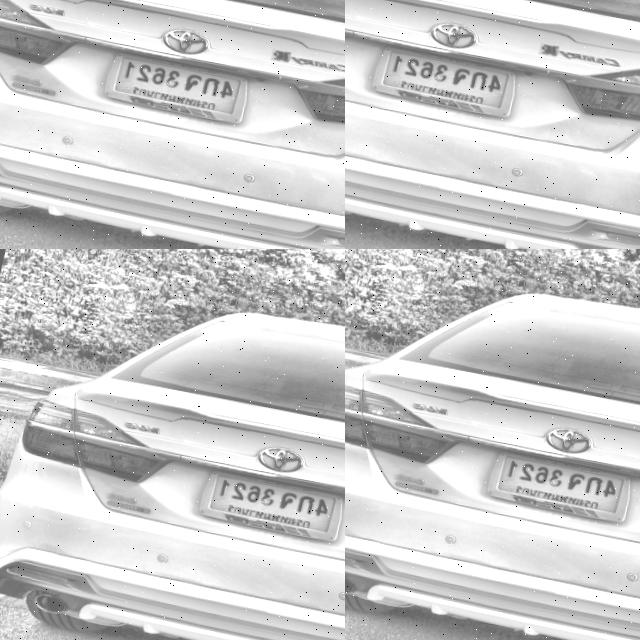license-plate: (482, 438, 640, 524)
